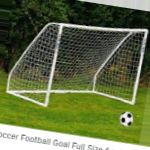goals: (5, 20, 149, 109)
